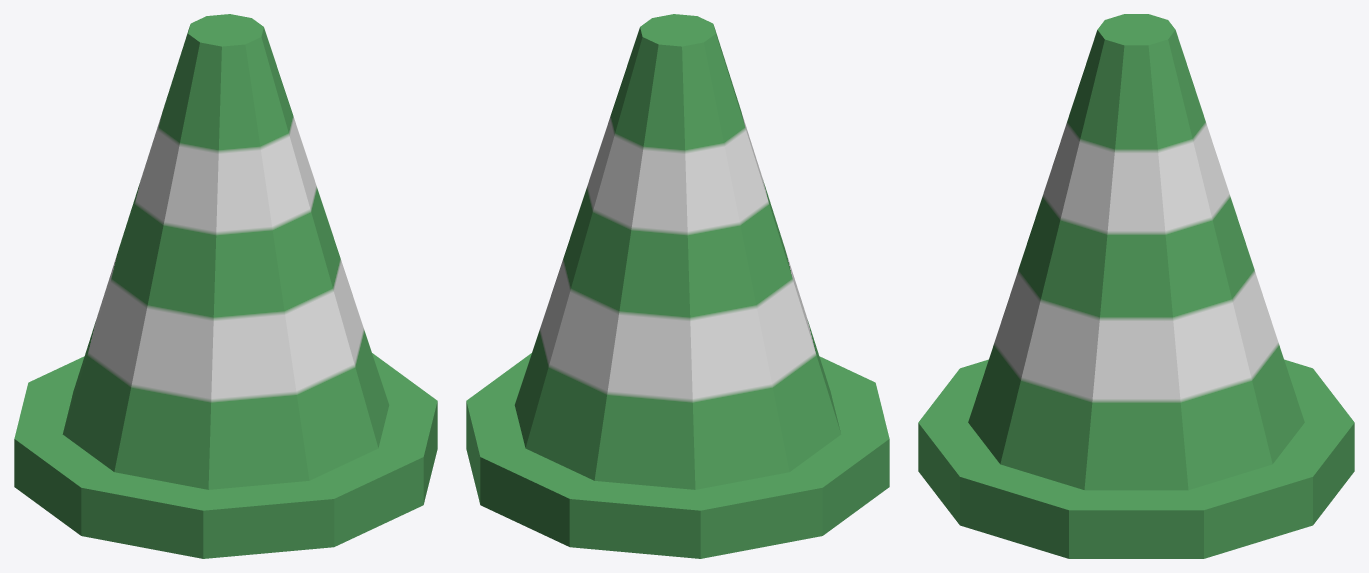
File: source.gltf
3 renders of one model, left to right at view 1: azimuth 30°, elevation 25°; view 2: azimuth 150°, elevation 25°; view 3: azimuth 270°, elevation 25°, orthographic.
Parts seen in each view (by area): view 1: Props_Traffic cone; view 2: Props_Traffic cone; view 3: Props_Traffic cone.
Boxes of the visible parts, x1=… form: Props_Traffic cone: x1=14, y1=14, x2=437, y2=558; Props_Traffic cone: x1=466, y1=14, x2=889, y2=558; Props_Traffic cone: x1=918, y1=14, x2=1354, y2=558.
Bounding box in the file's own units: 0.7849 × 0.9212 × 0.8253.
1 material, 1 textured.
